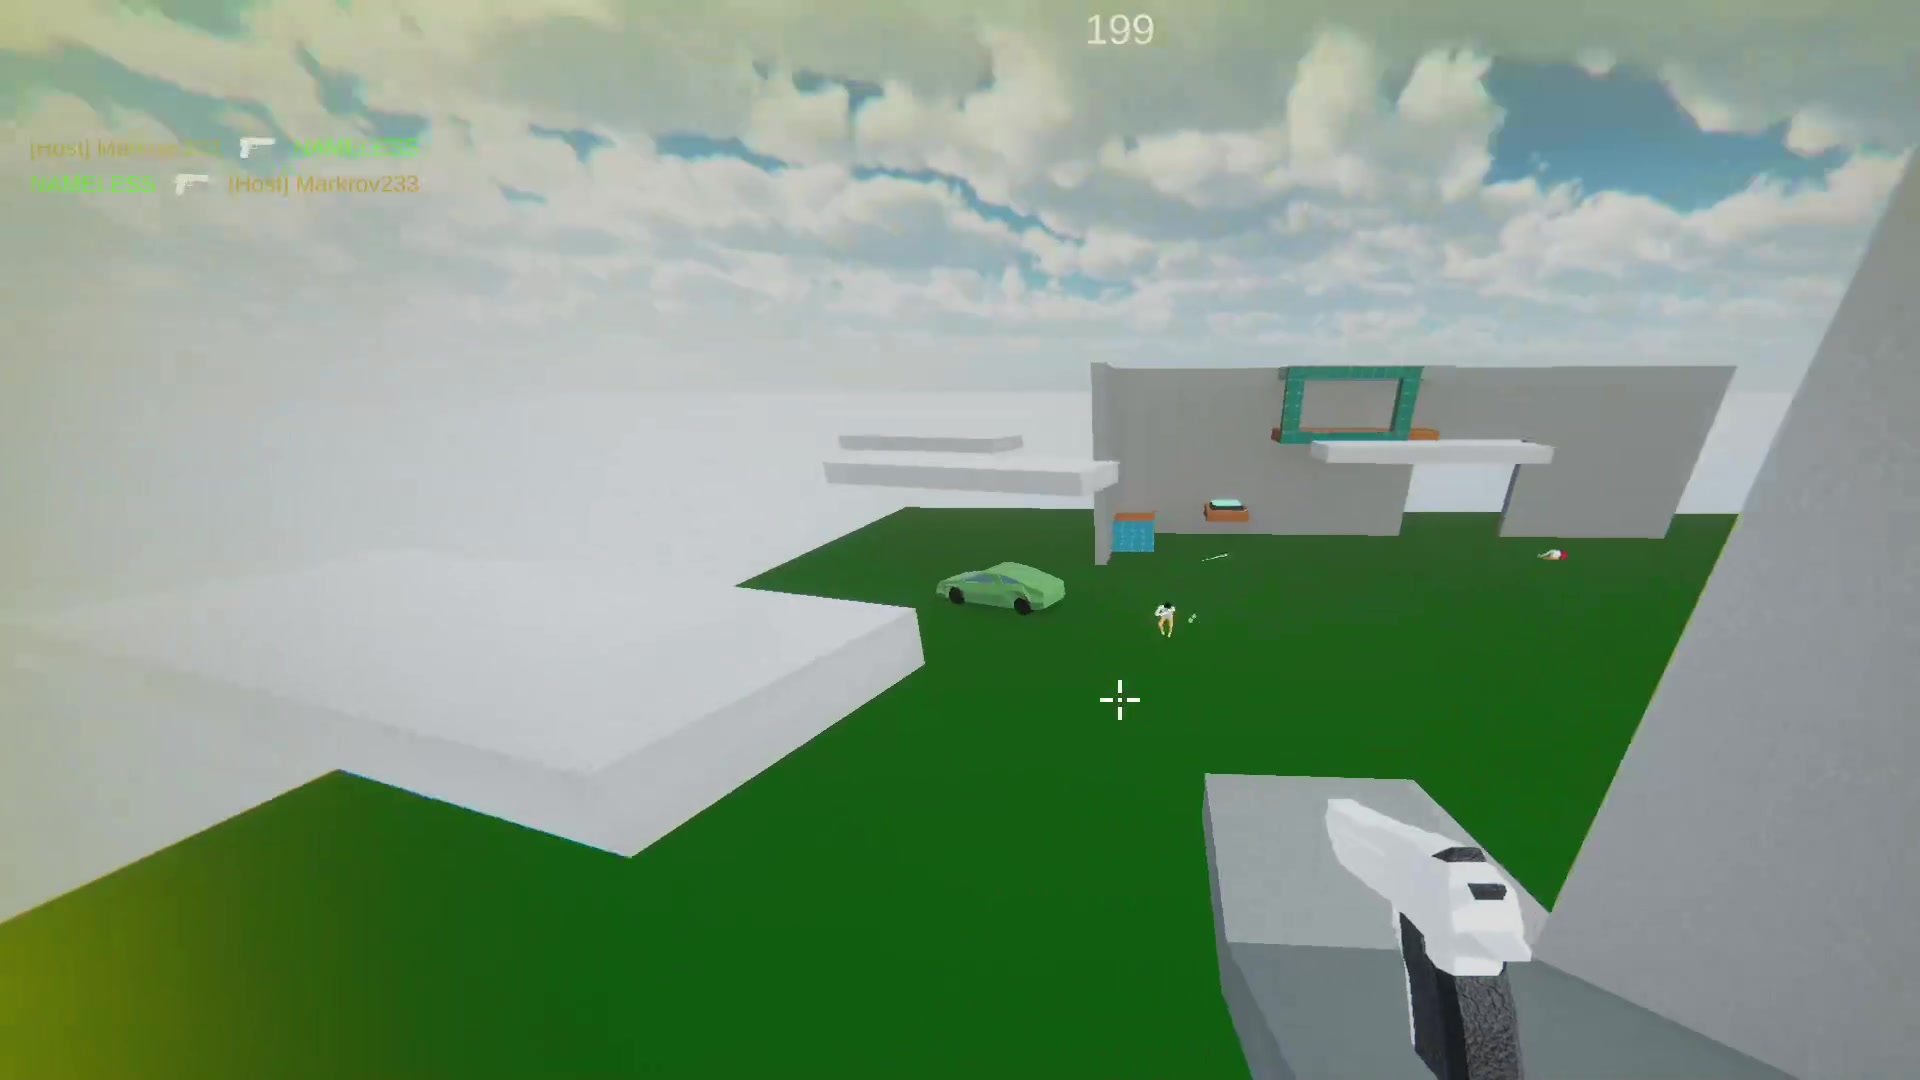human: (1155, 602, 1180, 641)
